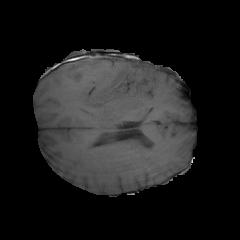glioma: (63, 64, 140, 116)
